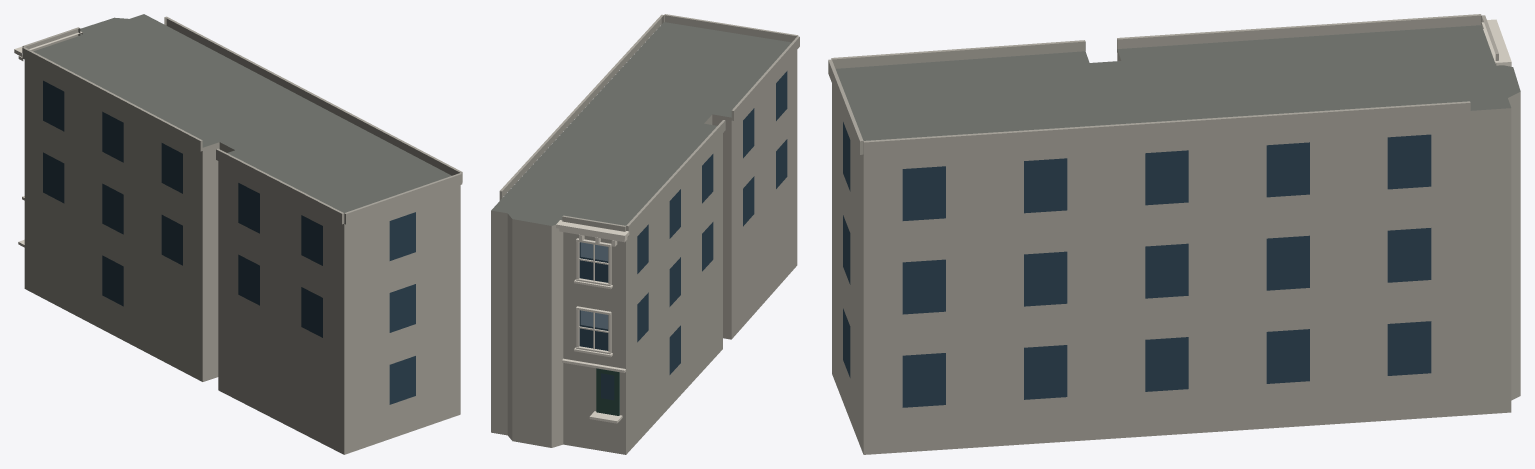
The picture shows the model from 3 angles, left to right: view 1: azimuth 30°, elevation 25°; view 2: azimuth 150°, elevation 25°; view 3: azimuth 270°, elevation 25°; orthographic projection. The views are drawn at different scales.
Visible parts, largest first — view 1: Footprint 0 / surface 2, Footprint 0 / surface 1, Inset glazing, Facade bay volumes; view 2: Footprint 0 / surface 2, Footprint 0 / surface 1, Inset glazing, Facade bay volumes, Cornices and window frames, Sky reflection panels, Storefronts and doors; view 3: Footprint 0 / surface 2, Footprint 0 / surface 1, Inset glazing, Facade bay volumes, Cornices and window frames.
Part boxes in pixels (<box>): Footprint 0 / surface 2: <box>24,60,460,454</box>; Footprint 0 / surface 1: <box>33,14,451,212</box>; Inset glazing: <box>43,80,415,404</box>; Facade bay volumes: <box>22,16,462,224</box>; Footprint 0 / surface 2: <box>491,50,797,454</box>; Footprint 0 / surface 1: <box>491,22,791,225</box>; Inset glazing: <box>579,71,787,400</box>; Facade bay volumes: <box>499,14,799,236</box>; Cornices and window frames: <box>556,220,629,423</box>; Sky reflection panels: <box>580,242,607,329</box>; Storefronts and doors: <box>596,368,619,415</box>; Footprint 0 / surface 2: <box>832,49,1520,454</box>; Footprint 0 / surface 1: <box>835,25,1520,140</box>; Inset glazing: <box>843,122,1431,407</box>; Facade bay volumes: <box>828,14,1498,156</box>; Cornices and window frames: <box>1481,19,1511,66</box>.
Bounding box in the file's own units: 10.15 × 11.44 × 22.87.
